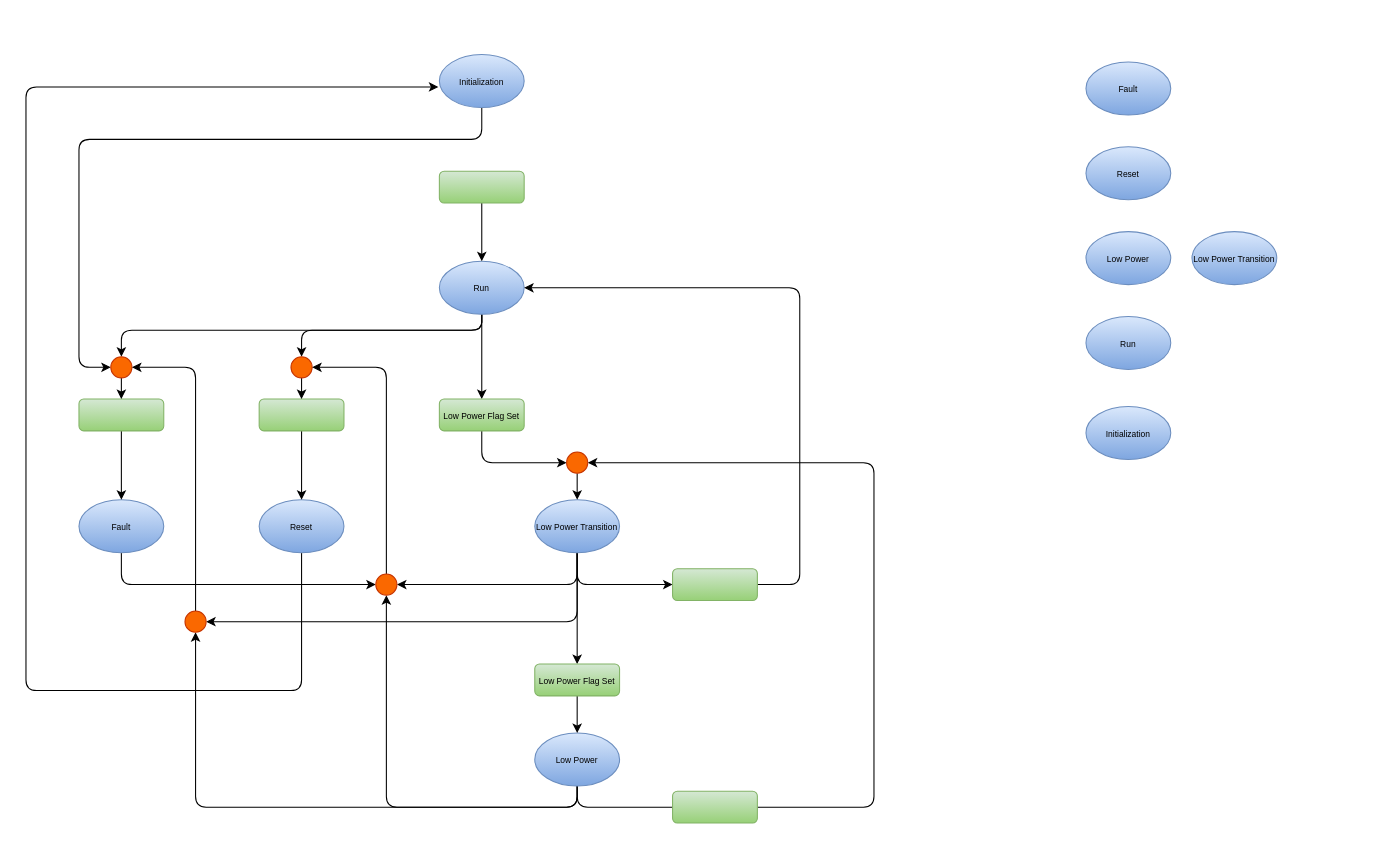
Image size: 1391x842. Some labels were removed from this diagram. The centre of each missing label's shape, as x and y in pixels:
Fault Code != 0: (121,414)
Fault Code = 0: (481,186)
Low Power Flag Cleared: (714,806)
No Flags Set: (714,584)
Reset Flag Set: (301,414)
